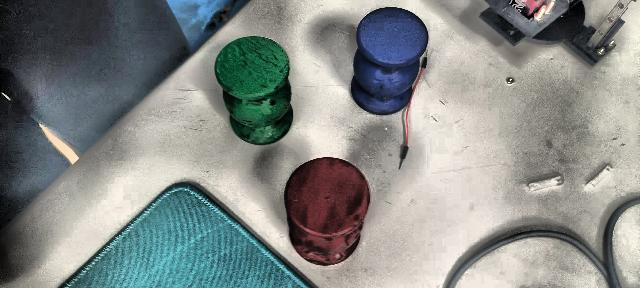blue: (351, 7, 429, 115)
green: (215, 34, 294, 146)
red: (282, 160, 371, 266)
